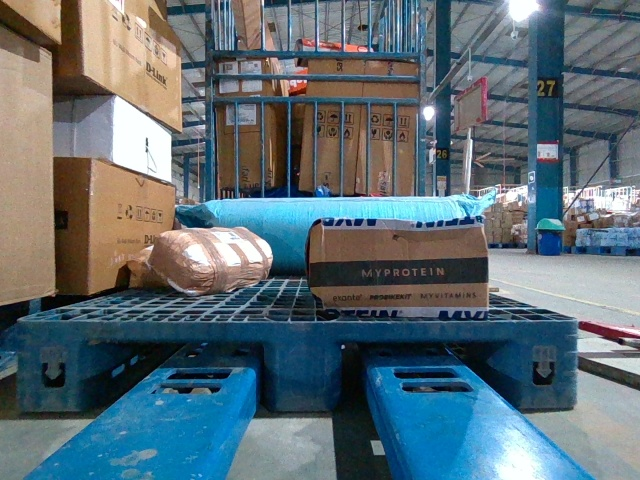block: (488, 319, 579, 411), (15, 321, 101, 409), (257, 321, 341, 409)
front: (16, 321, 576, 416)
hole pallet: (86, 341, 274, 416), (330, 340, 494, 408)
